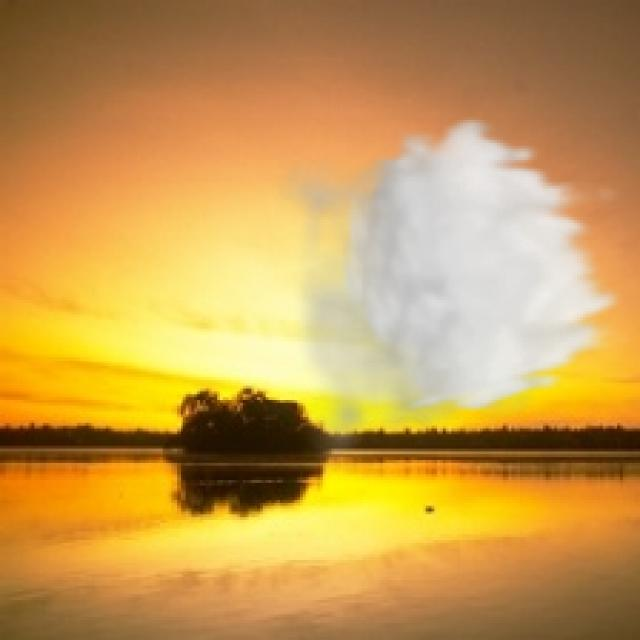smoke: (272, 114, 628, 477)
